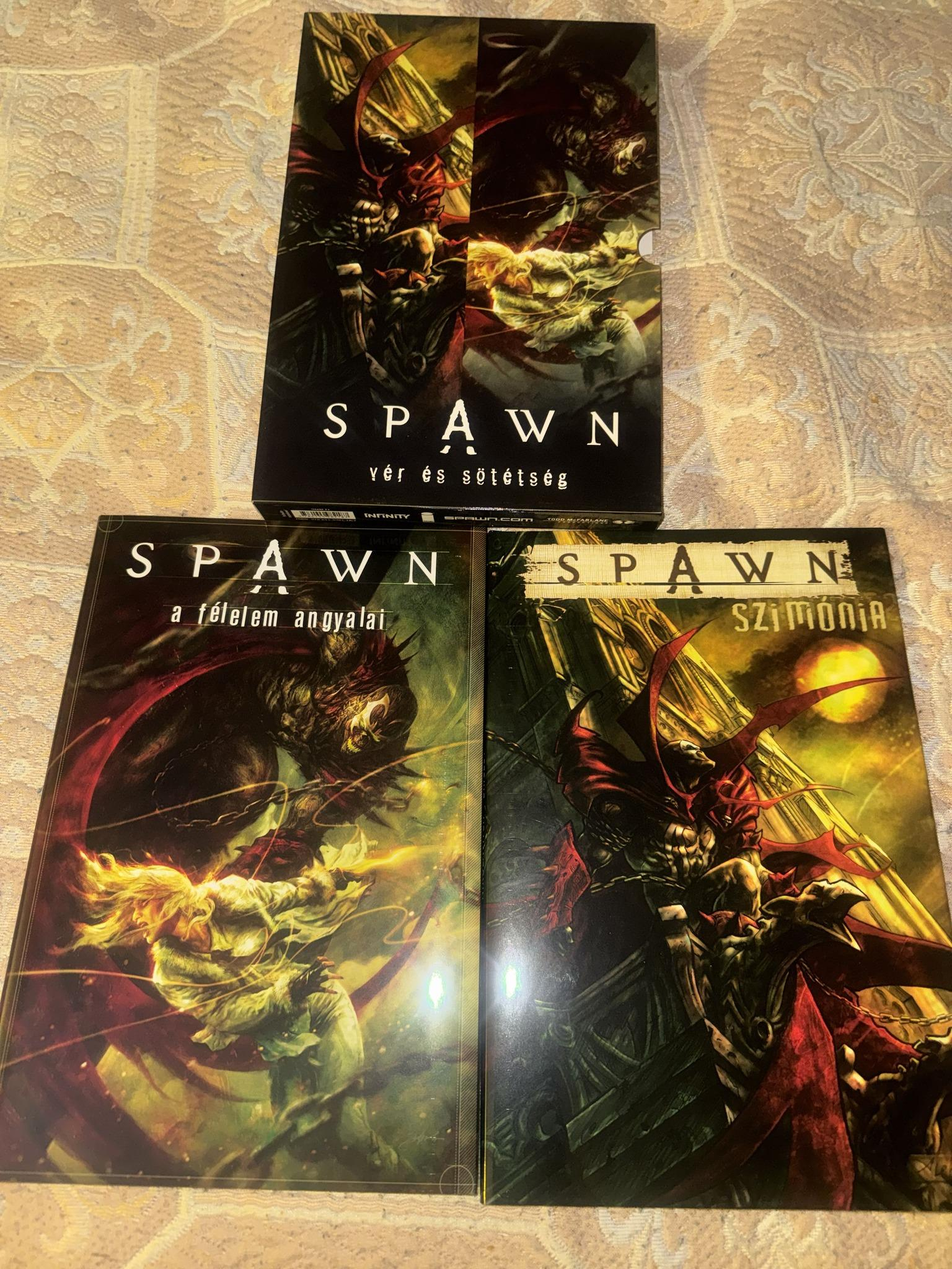comic: (0, 514, 494, 1192), (483, 529, 952, 1210), (253, 11, 671, 528)
